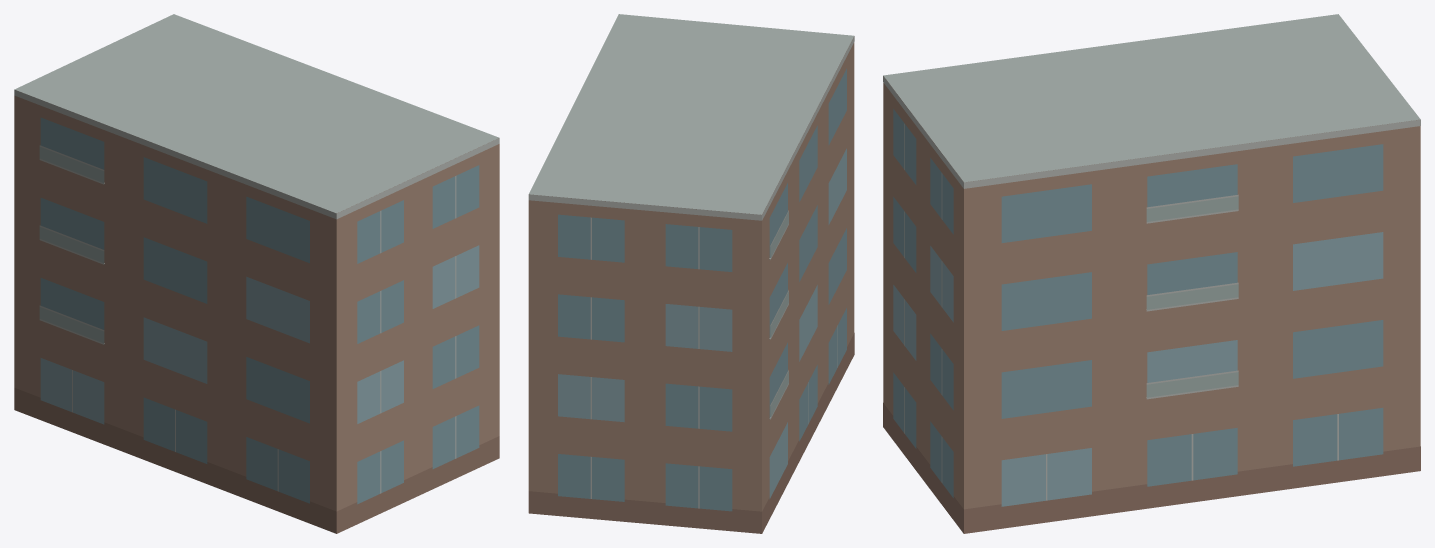
File: survey-upis-32962714.glb
3 renders of one model, left to right at view 1: azimuth 30°, elevation 25°; view 2: azimuth 150°, elevation 25°; view 3: azimuth 270°, elevation 25°, orthographic. The views are drawn at different scales.
Visible parts, largest first — view 1: survey-upis-32962714.tmp; view 2: survey-upis-32962714.tmp; view 3: survey-upis-32962714.tmp.
Boxes of the visible parts, <box> form: survey-upis-32962714.tmp: <box>14,14,499,533</box>; survey-upis-32962714.tmp: <box>528,14,854,533</box>; survey-upis-32962714.tmp: <box>883,14,1420,533</box>.
Bounding box in the file's own units: 13.5 × 13.13 × 18.21.
